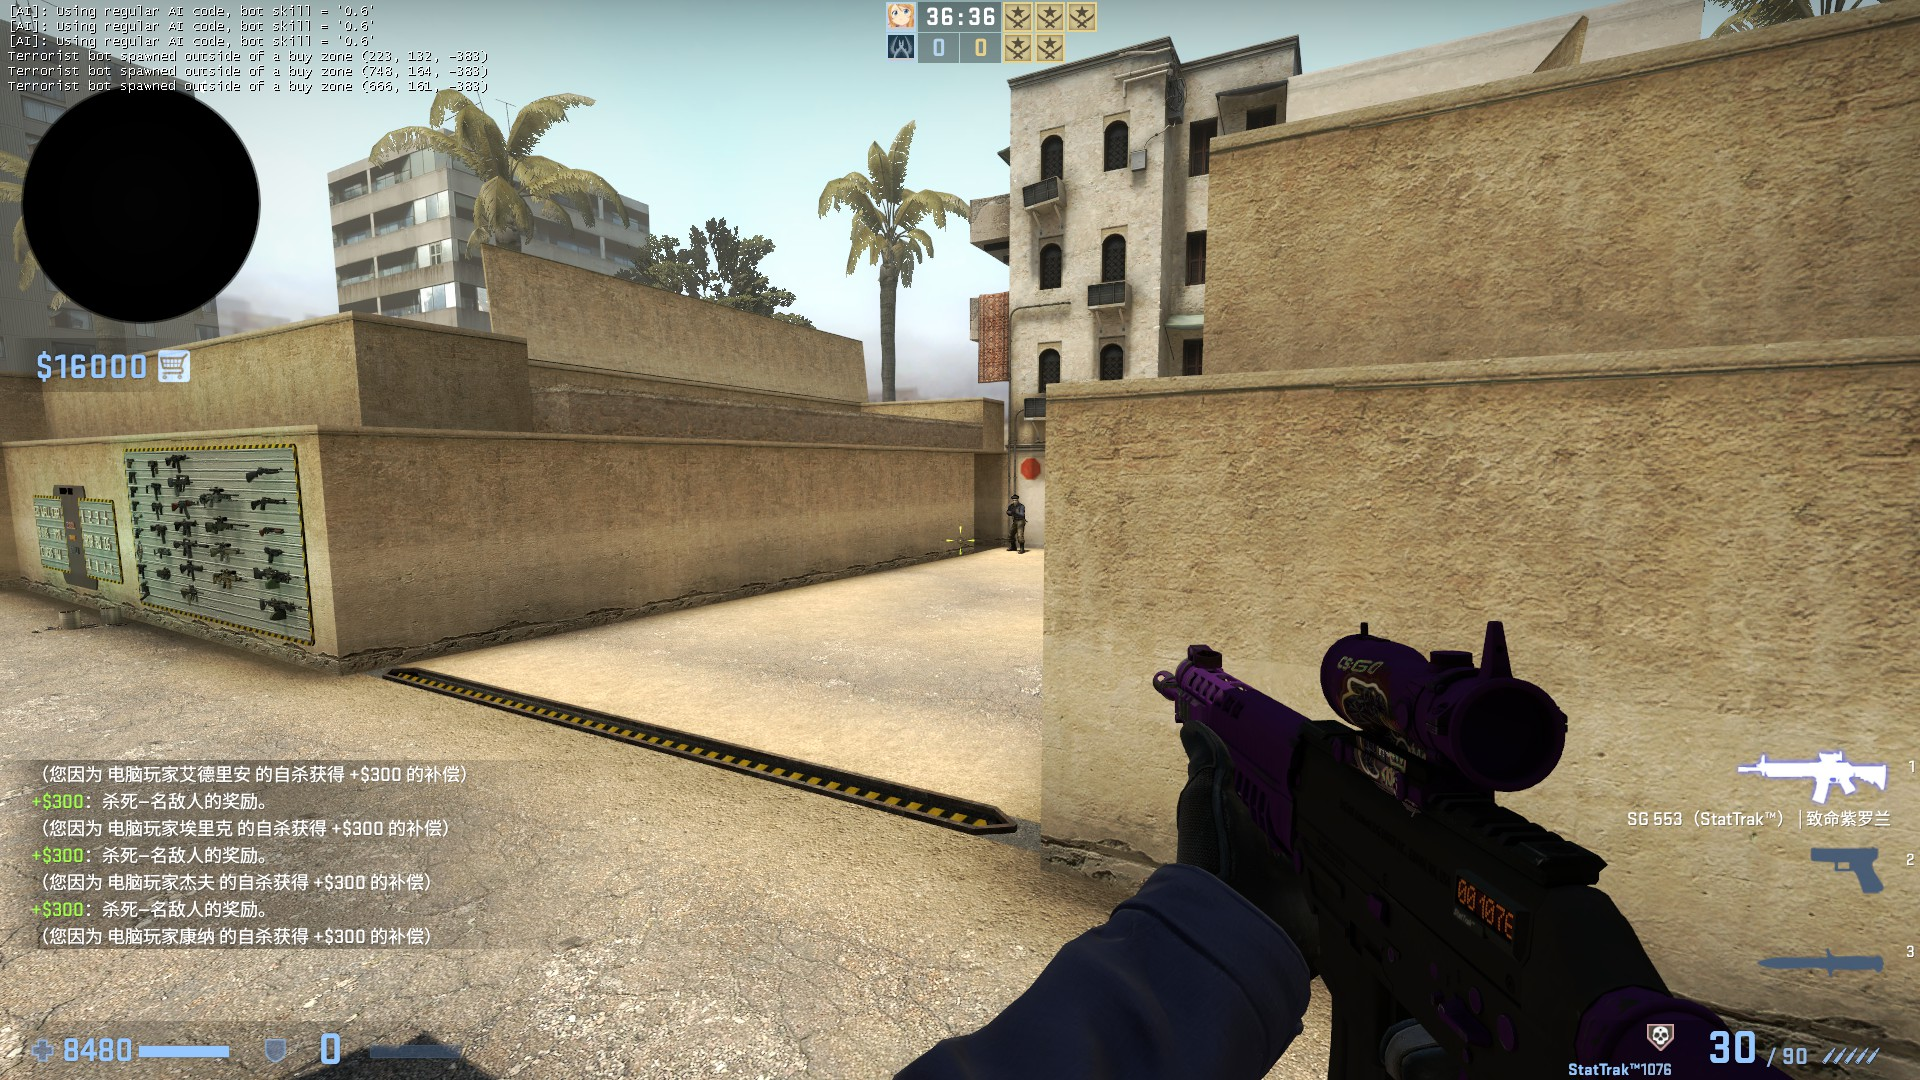head: (1009, 493, 1019, 503)
